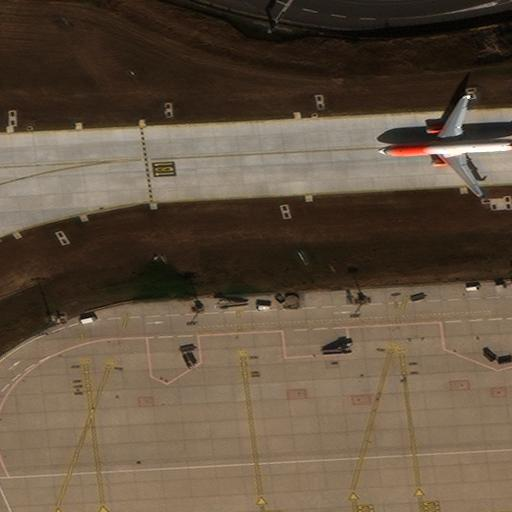Medium Civil Transport: (377, 96, 512, 197)
